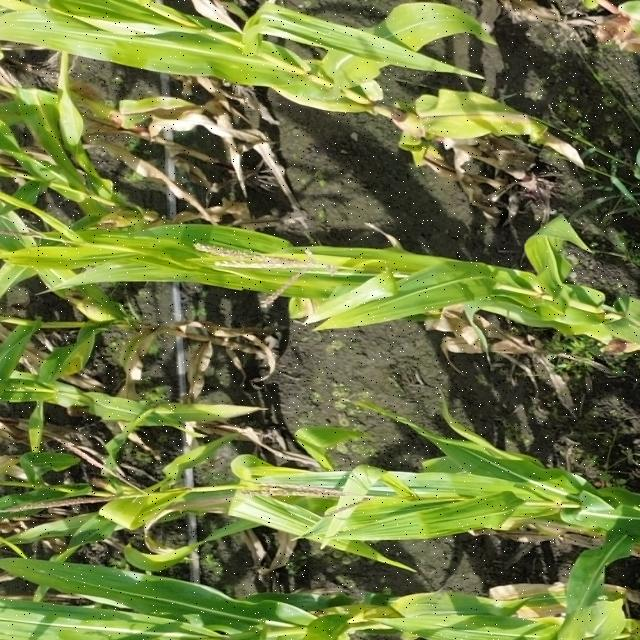northern-leaf-blight: (422, 99, 540, 137), (501, 583, 583, 619), (111, 94, 193, 130), (178, 490, 240, 514)
southern-leaf-blight: (33, 553, 97, 586)
